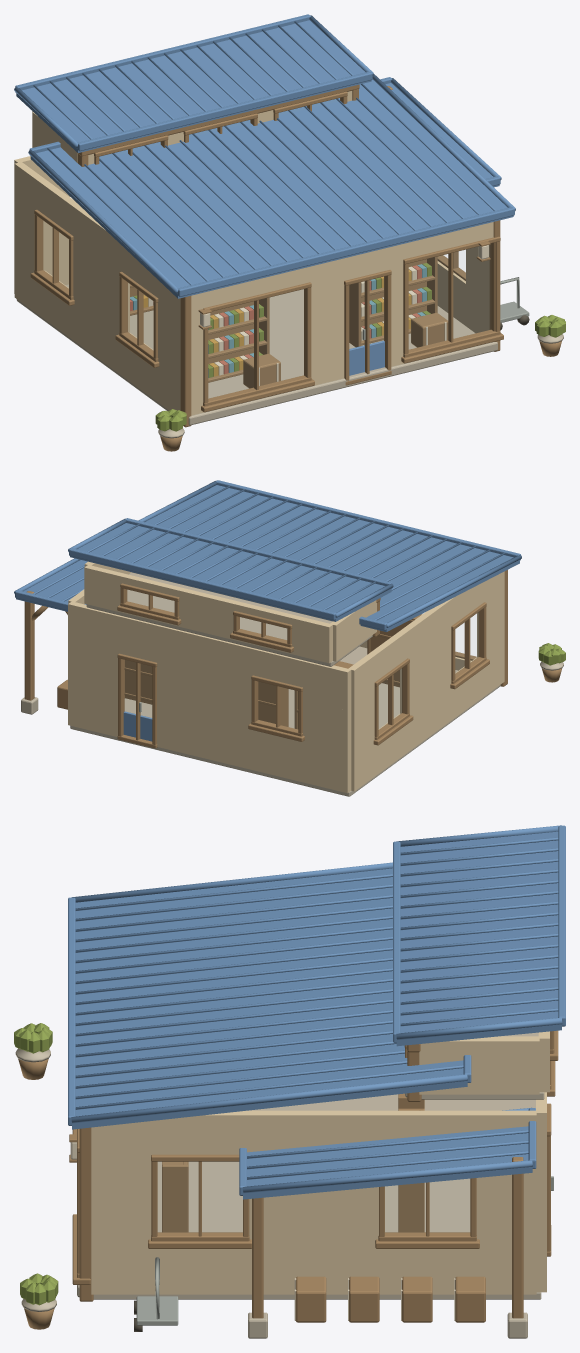
The picture shows the model from 3 angles, top to bottom: view 1: azimuth 30°, elevation 25°; view 2: azimuth 150°, elevation 25°; view 3: azimuth 270°, elevation 25°; orthographic projection. The views are drawn at different scales.
Visible parts, largest first — view 1: SM_19_02_曲面屋顶, SM_19_01_建筑墙体, SM_19_04_门窗楼梯, SM_19_06_景观设施, SM_19_03_木构回廊, SM_19_05_景观植物; view 2: SM_19_01_建筑墙体, SM_19_02_曲面屋顶, SM_19_04_门窗楼梯, SM_19_06_景观设施, SM_19_03_木构回廊, SM_19_05_景观植物; view 3: SM_19_02_曲面屋顶, SM_19_01_建筑墙体, SM_19_06_景观设施, SM_19_04_门窗楼梯, SM_19_03_木构回廊, SM_19_05_景观植物.
Part boxes in pixels (x1,y1,x2,y2): SM_19_02_曲面屋顶: (14,14,515,298); SM_19_01_建筑墙体: (14,91,497,425); SM_19_04_门窗楼梯: (30,91,503,412); SM_19_06_景观设施: (130,255,529,388); SM_19_03_木构回廊: (77,84,500,427); SM_19_05_景观植物: (155,315,565,451); SM_19_01_建筑墙体: (68,561,504,796); SM_19_02_曲面屋顶: (14,480,521,631); SM_19_04_门窗楼梯: (117,583,489,748); SM_19_06_景观设施: (57,614,421,729); SM_19_03_木构回廊: (21,570,507,714); SM_19_05_景观植物: (538,643,565,682); SM_19_02_曲面屋顶: (68,825,565,1199); SM_19_01_建筑墙体: (77,1031,549,1299); SM_19_06_景观设施: (134,1093,485,1331); SM_19_04_门窗楼梯: (69,1030,558,1284); SM_19_03_木构回廊: (79,1044,527,1338); SM_19_05_景观植物: (14,1023,58,1329).
Size of the model in its own units: 11.06 by 5.19 by 9.34.
